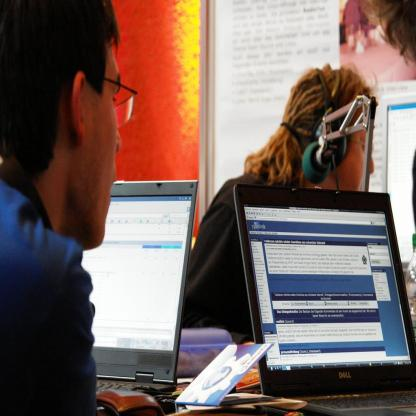board: (241, 187, 416, 416), (82, 181, 198, 394)
